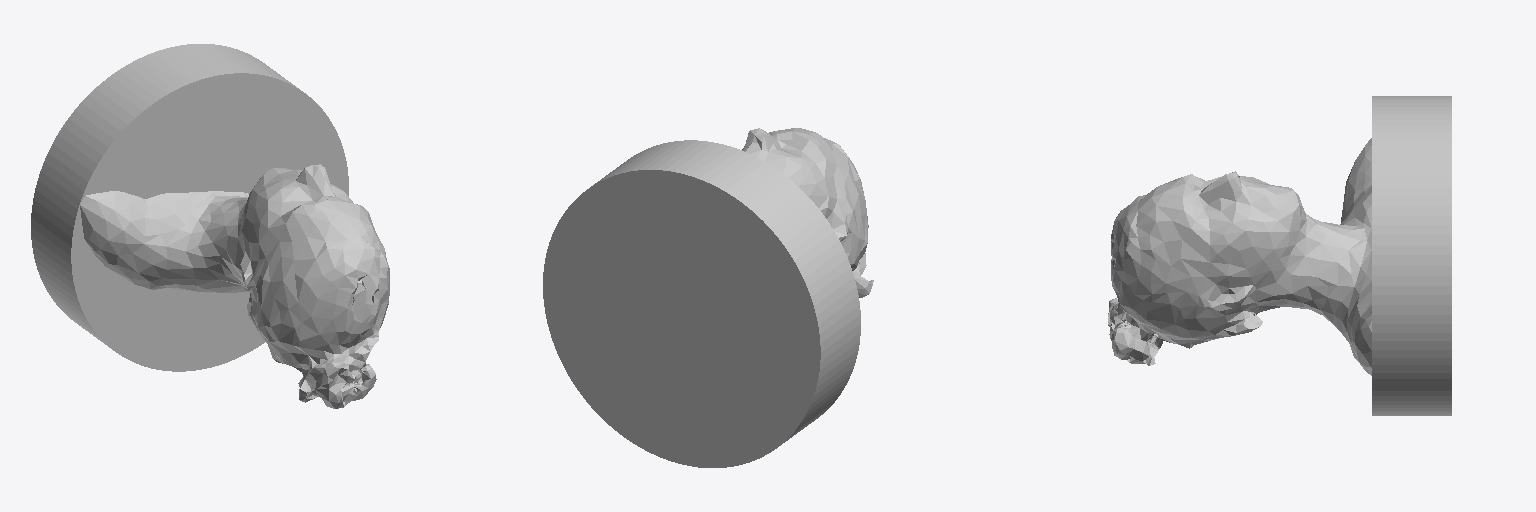
The model's file is sophie.obj.
3 views of the same model, side by side, from view 1: azimuth 30°, elevation 25°; view 2: azimuth 150°, elevation 25°; view 3: azimuth 270°, elevation 25° (orthographic).
Parts seen in each view (by area): view 1: <STL_BINARY>; view 2: <STL_BINARY>; view 3: <STL_BINARY>.
Part boxes in pixels (left/top/right/bottom): <STL_BINARY>: left=31, top=44, right=389, bottom=408; <STL_BINARY>: left=543, top=128, right=873, bottom=467; <STL_BINARY>: left=1108, top=96, right=1451, bottom=415.
Size of the model in its own units: 0.397 by 0.397 by 0.4267.